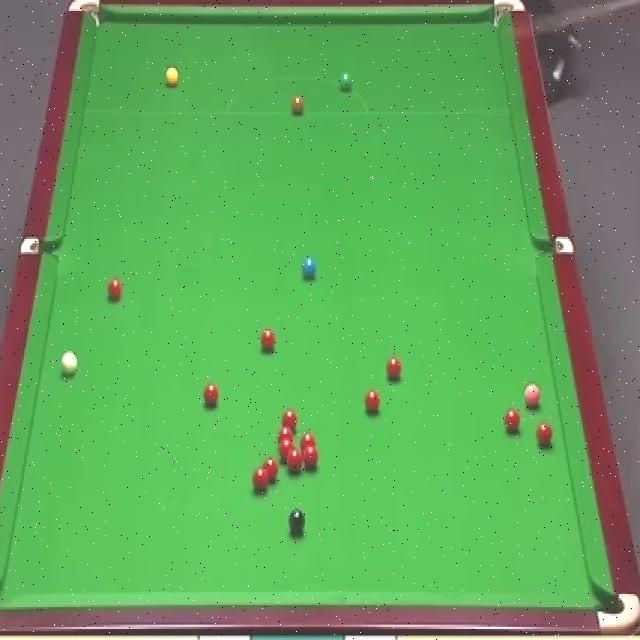black-ball: (287, 509, 306, 532)
blue-ball: (301, 256, 318, 281)
brown-ball: (290, 94, 304, 116)
green-ball: (340, 69, 352, 92)
pink-ball: (523, 383, 542, 409)
red-ball: (504, 405, 521, 434), (535, 421, 553, 446), (253, 465, 269, 493), (385, 356, 402, 380), (260, 328, 276, 353), (108, 276, 122, 304), (304, 444, 319, 470), (263, 457, 278, 483), (202, 382, 218, 406), (364, 389, 379, 413), (276, 426, 294, 446), (282, 408, 297, 431), (288, 448, 302, 472), (279, 439, 294, 461), (300, 431, 317, 448)
white-ball: (61, 348, 78, 379)
yellow-ball: (165, 66, 178, 90)
